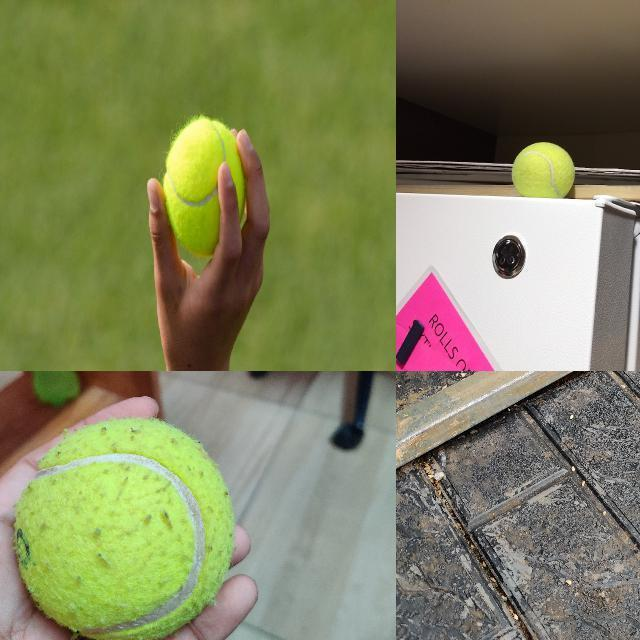tennis-ball: (12, 417, 235, 639), (163, 117, 247, 256), (511, 141, 575, 196)
